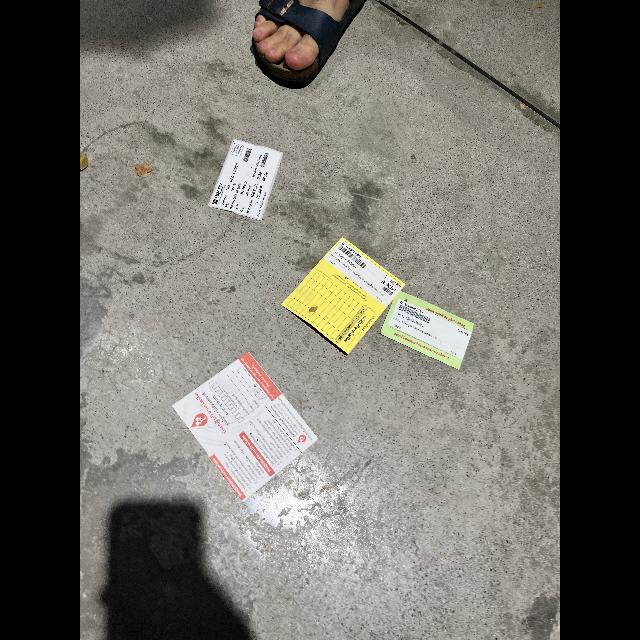scrap_paper: (278, 233, 409, 355), (381, 286, 482, 372), (204, 136, 286, 230)
